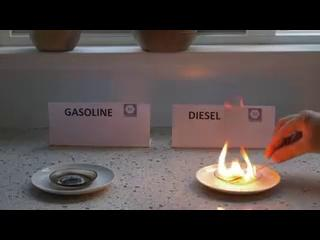Fire: (215, 94, 262, 182)
